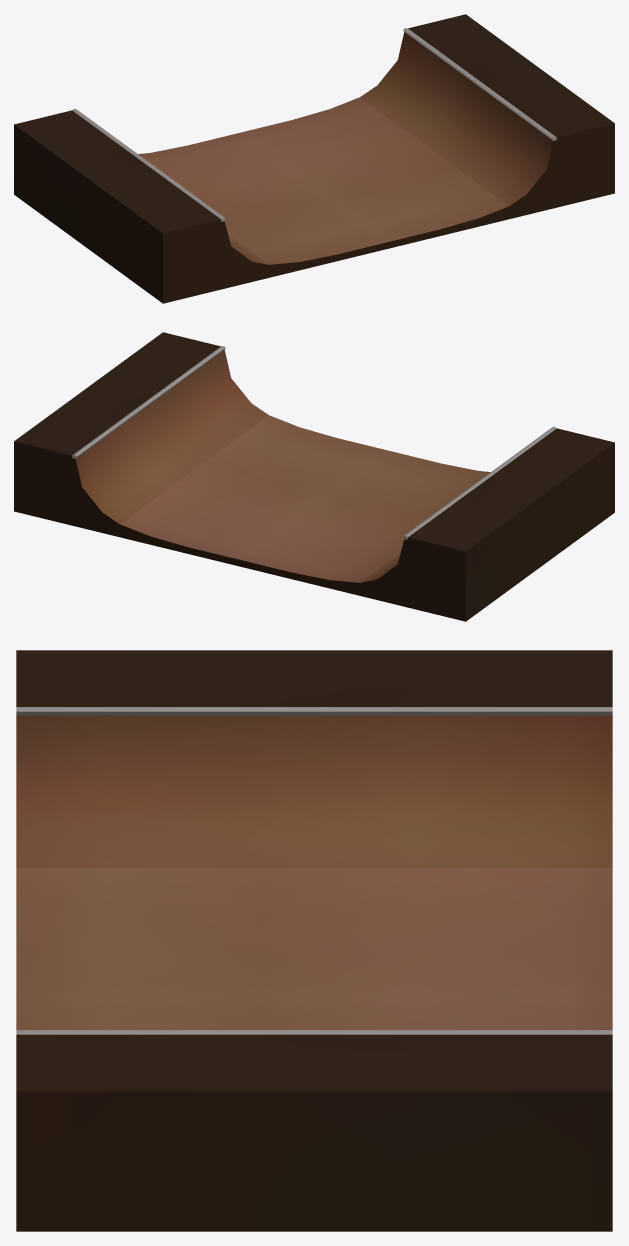
Rendered from HalfPipe.glb.
The picture shows the model from 3 angles, top to bottom: view 1: azimuth 30°, elevation 25°; view 2: azimuth 150°, elevation 25°; view 3: azimuth 270°, elevation 25°; orthographic projection. The views are drawn at different scales.
Parts seen in each view (by area): view 1: HalfPipe; view 2: HalfPipe; view 3: HalfPipe.
Boxes of the visible parts, x1,y1,x2,y2 form: HalfPipe: (14,14,614,303); HalfPipe: (14,332,614,621); HalfPipe: (16,650,612,1231).
Size of the model in its own units: 14 by 2.11 by 8.
Materials: 1 (1 with a texture image).
